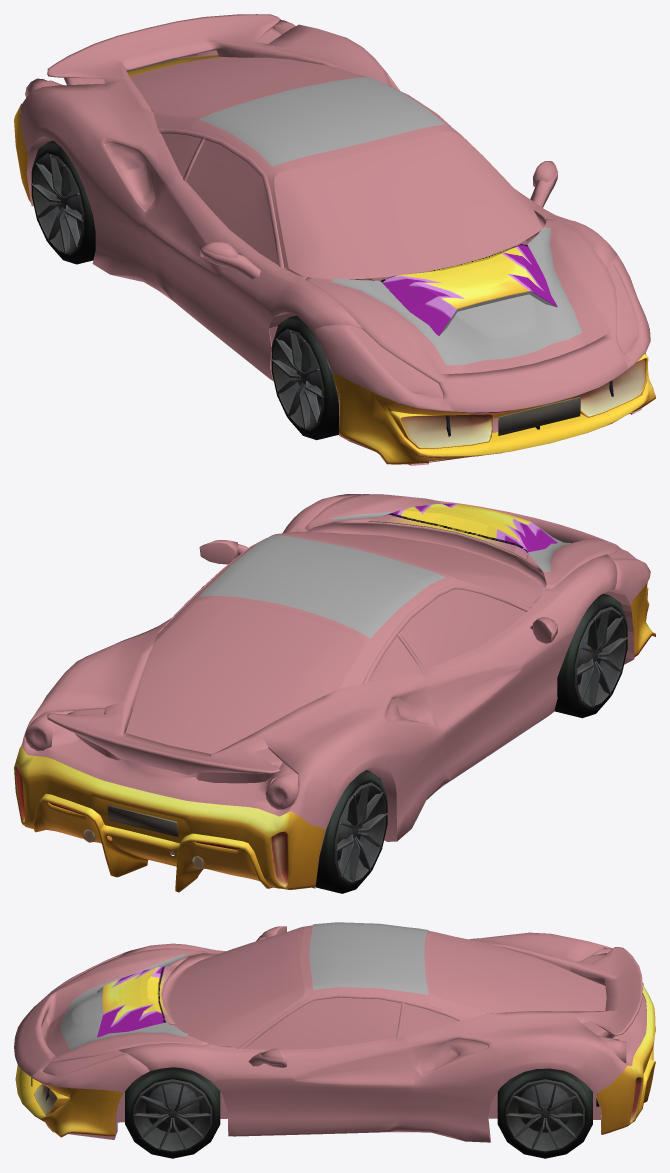
Rendered from Ferrari_488_1.fbx.
The picture shows the model from 3 angles, top to bottom: view 1: azimuth 30°, elevation 25°; view 2: azimuth 150°, elevation 25°; view 3: azimuth 270°, elevation 25°; orthographic projection. The views are drawn at different scales.
Visible parts, largest first — view 1: polySurface10, ferrari_carbon2, polySurface2, exportobj2:ferrari_airtake, Ferrari_wheel_F.R, Ferrari_wheel_B.R; view 2: polySurface10, polySurface2, ferrari_carbon2, Ferrari_wheel_F.R, Ferrari_wheel_B.R, exportobj2:ferrari_airtake; view 3: polySurface10, ferrari_carbon2, polySurface2, Ferrari_wheel_F.L, Ferrari_wheel_B.L, exportobj2:ferrari_airtake.
Part boxes in pixels (x1,y1,x2,y2): polySurface10: [20, 14, 650, 465]; ferrari_carbon2: [199, 77, 582, 365]; polySurface2: [14, 55, 655, 464]; exportobj2:ferrari_airtake: [368, 240, 557, 335]; Ferrari_wheel_F.R: [271, 315, 338, 440]; Ferrari_wheel_B.R: [31, 140, 95, 264]; polySurface10: [21, 494, 650, 888]; polySurface2: [14, 582, 655, 892]; ferrari_carbon2: [199, 511, 571, 638]; Ferrari_wheel_F.R: [554, 593, 627, 718]; Ferrari_wheel_B.R: [315, 770, 387, 893]; exportobj2:ferrari_airtake: [368, 503, 557, 559]; polySurface10: [14, 925, 646, 1142]; ferrari_carbon2: [60, 922, 428, 1050]; polySurface2: [15, 983, 655, 1137]; Ferrari_wheel_F.L: [125, 1067, 220, 1158]; Ferrari_wheel_B.L: [497, 1068, 592, 1158]; exportobj2:ferrari_airtake: [97, 965, 176, 1037].
Size of the model in its own units: 226 by 121 by 458.
Materials: 5 (3 with a texture image).
